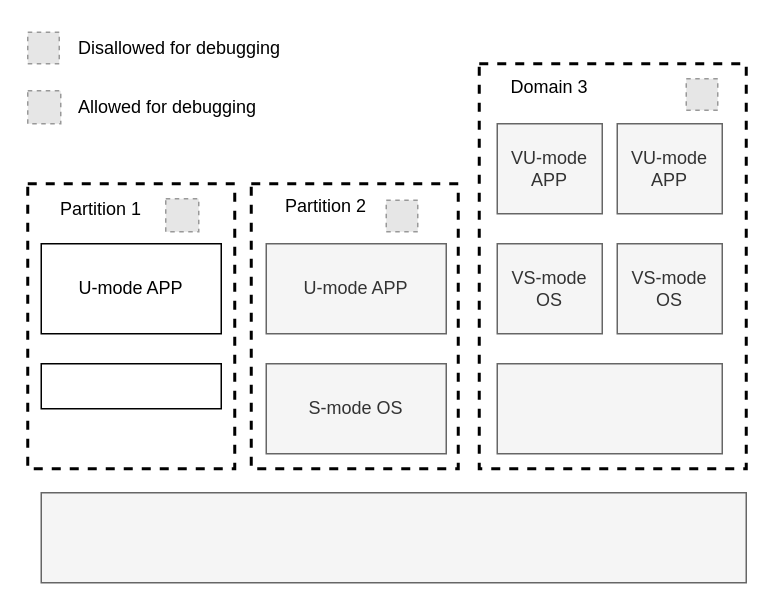
This 773x609 diagram has some shape labels left out. Grey dashed boxes stand in for pictures. The box of each missing label's shape, as (x1, y1, x2, y2) in pixels:
HS-mode VMM: (496, 362, 722, 454)
M-mode secure monitor: (40, 491, 746, 583)
S-mode Runtime: (40, 362, 221, 409)
